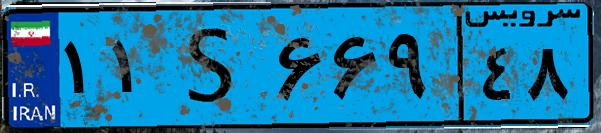1: (57, 26, 110, 100), (110, 28, 158, 98)
4: (475, 38, 525, 113)
6: (270, 28, 330, 110), (330, 28, 385, 110)
8: (525, 38, 570, 115)
9: (385, 28, 445, 110)
S: (158, 12, 270, 120)
